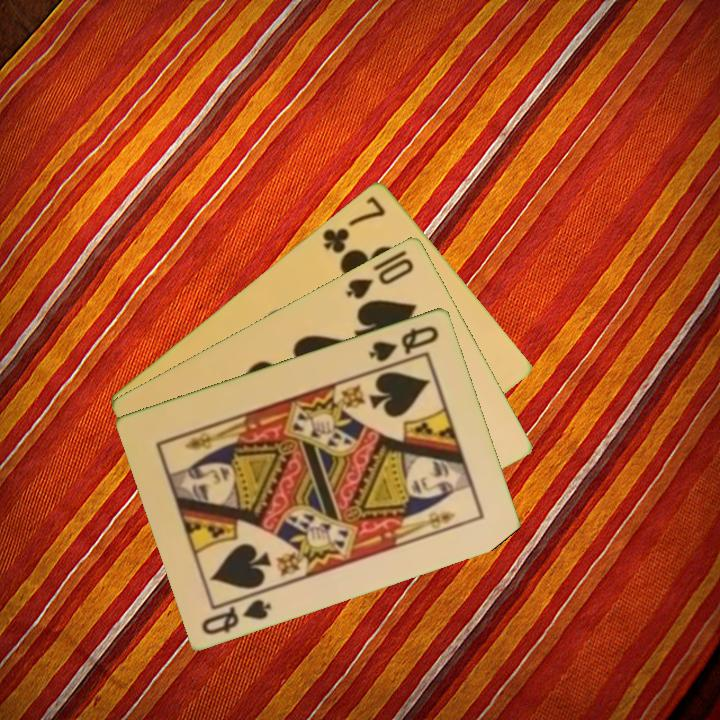10s: (343, 254, 417, 302)
7c: (319, 192, 389, 256)
Qs: (198, 586, 275, 638), (365, 321, 442, 364)
